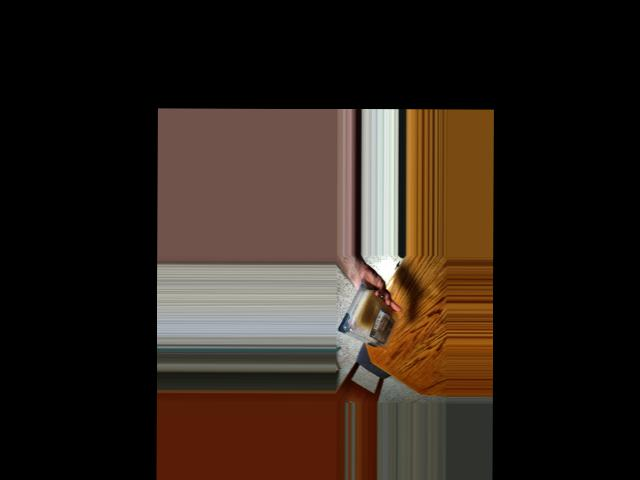cheese: (343, 282, 388, 349)
